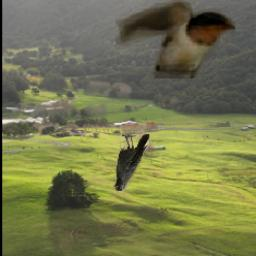Crow: (114, 135, 150, 192)
Swallow: (115, 0, 235, 78)
